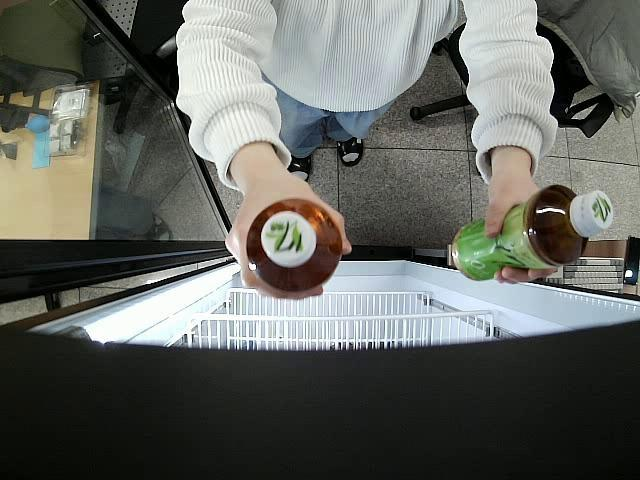19_17cha: (452, 186, 614, 282), (246, 197, 343, 292)
